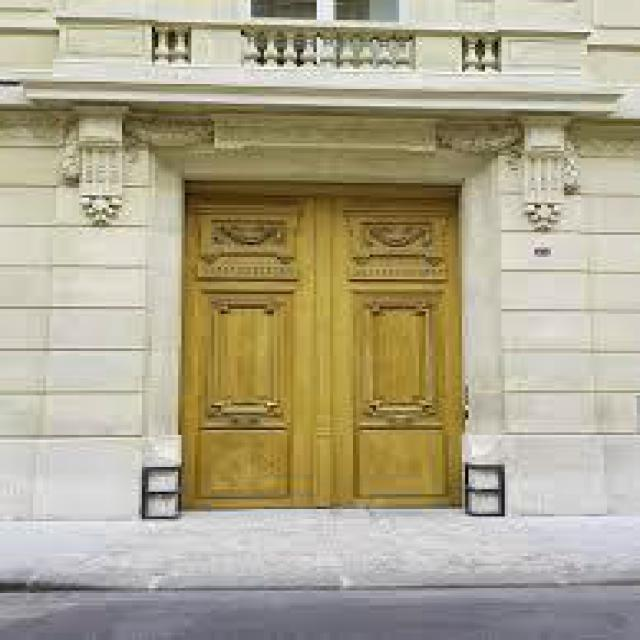door: (318, 186, 466, 508), (181, 183, 317, 510)
